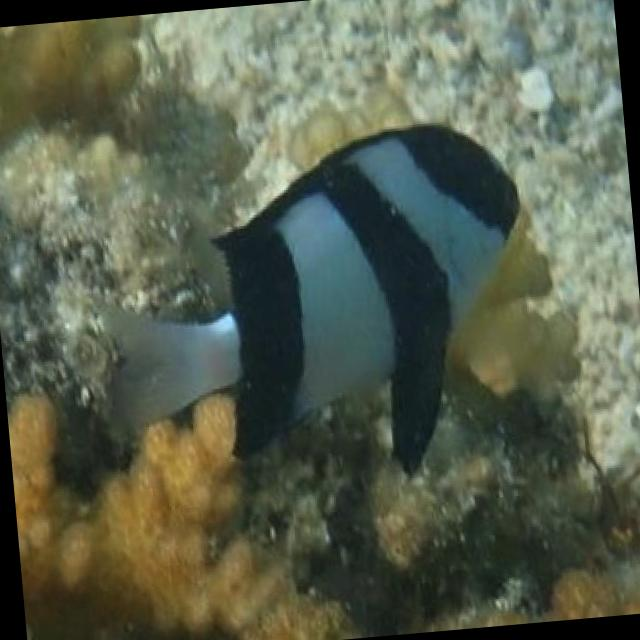Three_striped DasmselFish: (100, 117, 542, 502)
